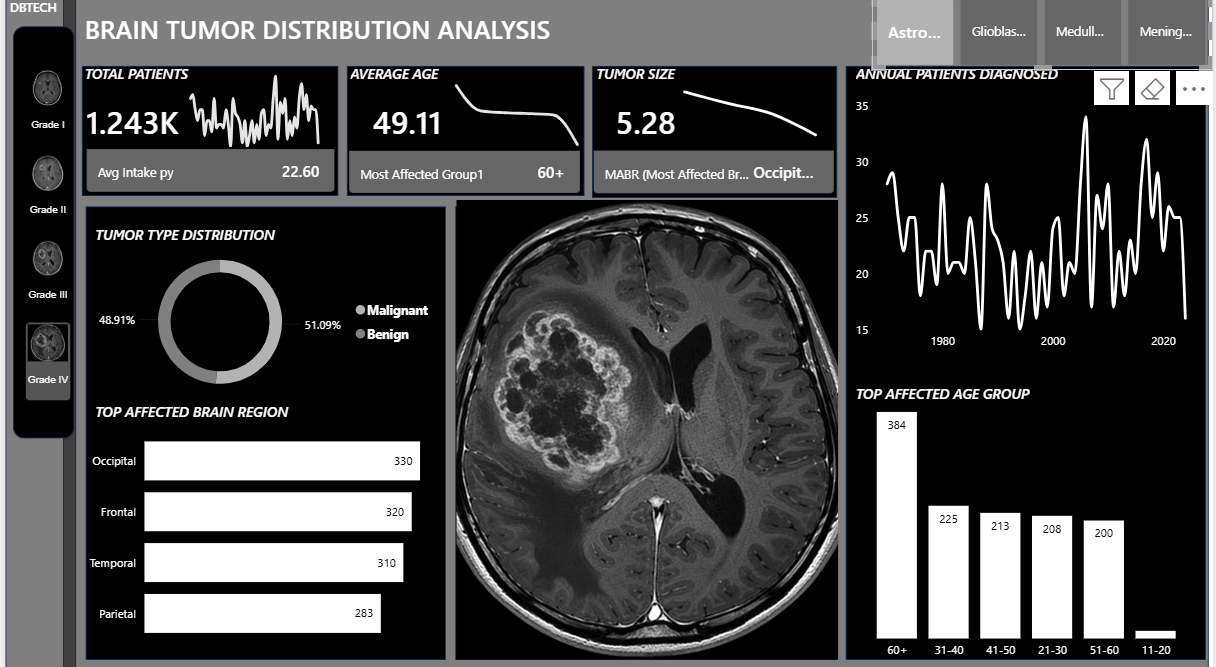

The page's visual inventory and layout, read from the dashboard file:
{"tool":"powerbi","page":{"name":"Page 1","canvas":[1280,720],"ordinal":0},"visuals":[{"type":"cardVisual","fields":{"Data":["Count(BTD1.Patient_ID)"]},"box":[57.3,14.3,176.6,241.8],"z":0},{"type":"lineChart","fields":{"Category":["BTD1.Diagnosis Date.Variation.Date Hierarchy.Year"],"Y":["CountNonNull(BTD1.Patient_ID)"]},"box":[181.3,70,165.4,98.6],"z":1000},{"type":"textbox","box":[79.5,70,203.6,70],"z":3000},{"type":"cardVisual","fields":{"Data":["Avg(BTD1.Age)"]},"box":[361.1,30.2,155.9,210],"z":4000},{"type":"lineChart","fields":{"Category":["BTD1.Age Group"],"Y":["CountNonNull(BTD1.Patient_ID)"]},"box":[462.9,81.1,159.1,87.5],"z":5000},{"type":"cardVisual","fields":{"Data":["Count(BTD1.Patient_ID)"]},"box":[335.6,70,303.8,171.8],"z":6000},{"type":"textbox","box":[361.1,70,157.5,70],"z":7000},{"type":"cardVisual","fields":{"Data":["Avg(BTD1.Tumor_Size)"]},"box":[618.7,70,155.9,130.4],"z":8000},{"type":"lineChart","fields":{"Category":["BTD1.Location"],"Y":["Sum(BTD1.Tumor_Size)"]},"box":[696.7,85.9,186.1,82.7],"z":9000},{"type":"cardVisual","fields":{"Data":["Count(BTD1.Patient_ID)"]},"box":[594.9,68.4,313.4,173.4],"z":10000},{"type":"textbox","box":[621.9,70,264,49.3],"z":11000},{"type":"advancedSlicerVisual","fields":{"Values":["BTD1.Histology"]},"box":[919.4,0,361.1,81.1],"z":12000},{"type":"ChicletSlicer1448559807354","fields":{"Category":["brain tumor image.Grade "],"Image":["brain tumor image.Icon URL"]},"box":[13.2,69.9,66.1,393.1],"z":13000},{"type":"image","box":[478.1,219.2,404.4,487.6],"z":14000},{"type":"donutChart","fields":{"Category":["BTD1.Tumor_Type"],"Y":["Count(BTD1.Patient_ID)"]},"box":[79.5,256.1,383.3,184.5],"z":15000},{"type":"textbox","box":[90.7,240.2,210,100.2],"z":16000},{"type":"clusteredBarChart","fields":{"Category":["BTD1.Location"],"Y":["CountNonNull(BTD1.Patient_ID)"]},"box":[80,441,383,266],"z":17000},{"type":"textbox","box":[90.7,427.9,372.2,278.4],"z":18000},{"type":"lineChart","fields":{"Category":["BTD1.Diagnosis Date.Variation.Date Hierarchy.Year"],"Y":["CountNonNull(BTD1.Patient_ID)"]},"box":[897.1,105,372.2,281.5],"z":19000},{"type":"textbox","box":[897.1,70,372.2,70],"z":20000},{"type":"clusteredColumnChart","fields":{"Category":["BTD1.Age Group"],"Y":["CountNonNull(BTD1.Patient_ID)"]},"box":[897.1,419.9,372.2,294.3],"z":21000},{"type":"textbox","box":[897.1,408.8,203.6,103.4],"z":22000},{"type":"textbox","box":[79.5,14.3,839.8,54.1],"z":23000},{"type":"textbox","box":[0,0,114.5,68.4],"z":24000},{"type":"cardVisual","fields":{"Data":["Count(BTD1.Patient_ID)"]},"box":[57.3,66.8,321.3,173.4],"z":24001}]}

Visuals, with their boxes on the page's 1280x720 design canvas (x1, y1, x2, y2). These are canvas units, not pixel positions in the 1216x667 screenshot, which may show the page scaled, cropped or inside an application window:
cardVisual - Count(BTD1.Patient_ID): bbox(57, 14, 234, 256)
lineChart - BTD1.Diagnosis Date.Variation.Date Hierarchy.Year x CountNonNull(BTD1.Patient_ID): bbox(181, 70, 347, 169)
textbox: bbox(80, 70, 283, 140)
cardVisual - Avg(BTD1.Age): bbox(361, 30, 517, 240)
lineChart - BTD1.Age Group x CountNonNull(BTD1.Patient_ID): bbox(463, 81, 622, 169)
cardVisual - Count(BTD1.Patient_ID): bbox(336, 70, 639, 242)
textbox: bbox(361, 70, 519, 140)
cardVisual - Avg(BTD1.Tumor_Size): bbox(619, 70, 775, 200)
lineChart - BTD1.Location x Sum(BTD1.Tumor_Size): bbox(697, 86, 883, 169)
cardVisual - Count(BTD1.Patient_ID): bbox(595, 68, 908, 242)
textbox: bbox(622, 70, 886, 119)
advancedSlicerVisual - BTD1.Histology: bbox(919, 0, 1280, 81)
ChicletSlicer1448559807354 - brain tumor image.Grade  x brain tumor image.Icon URL: bbox(13, 70, 79, 463)
image: bbox(478, 219, 882, 707)
donutChart - BTD1.Tumor_Type x Count(BTD1.Patient_ID): bbox(80, 256, 463, 441)
textbox: bbox(91, 240, 301, 340)
clusteredBarChart - BTD1.Location x CountNonNull(BTD1.Patient_ID): bbox(80, 441, 463, 707)
textbox: bbox(91, 428, 463, 706)
lineChart - BTD1.Diagnosis Date.Variation.Date Hierarchy.Year x CountNonNull(BTD1.Patient_ID): bbox(897, 105, 1269, 386)
textbox: bbox(897, 70, 1269, 140)
clusteredColumnChart - BTD1.Age Group x CountNonNull(BTD1.Patient_ID): bbox(897, 420, 1269, 714)
textbox: bbox(897, 409, 1101, 512)
textbox: bbox(80, 14, 919, 68)
textbox: bbox(0, 0, 114, 68)
cardVisual - Count(BTD1.Patient_ID): bbox(57, 67, 379, 240)
